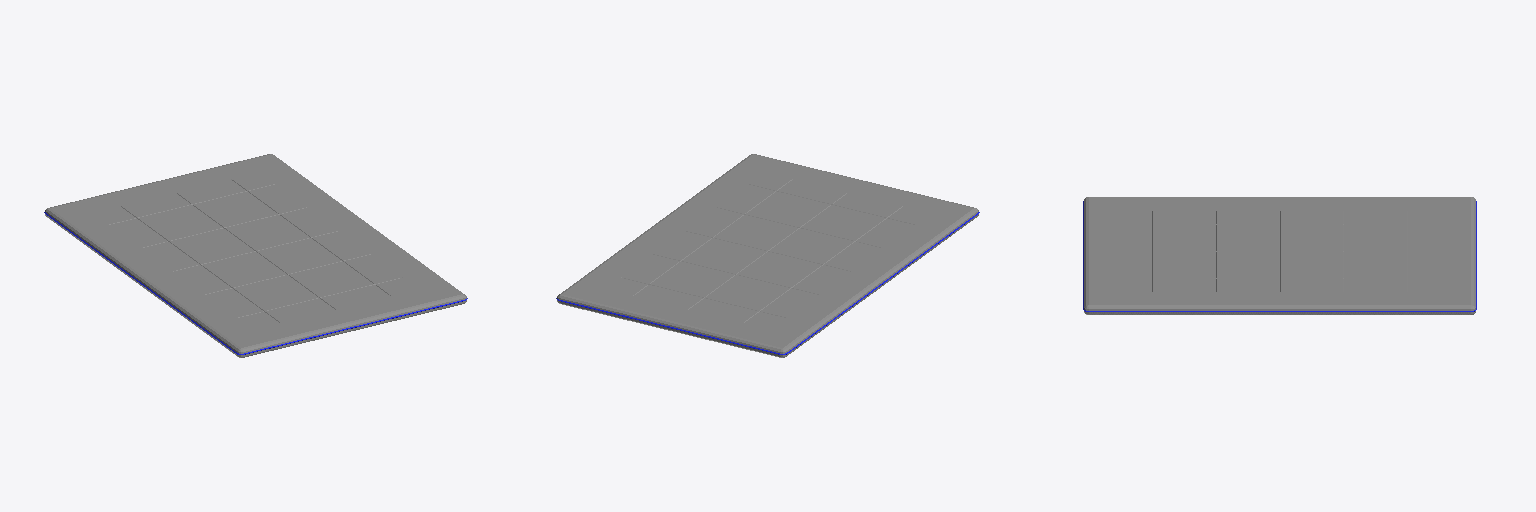
3 views of the same model, side by side, from view 1: azimuth 30°, elevation 25°; view 2: azimuth 150°, elevation 25°; view 3: azimuth 270°, elevation 25° (orthographic).
Visible parts, largest first — view 1: blue.002; view 2: blue.002; view 3: blue.002.
Boxes of the visible parts, box(x1,y1,x2,y2) form: blue.002: box(44, 154, 467, 357); blue.002: box(556, 154, 979, 357); blue.002: box(1083, 197, 1476, 314).
Bounding box in the file's own units: 3.66 × 0.1459 × 5.41.
Materials: 3 (1 with a texture image).